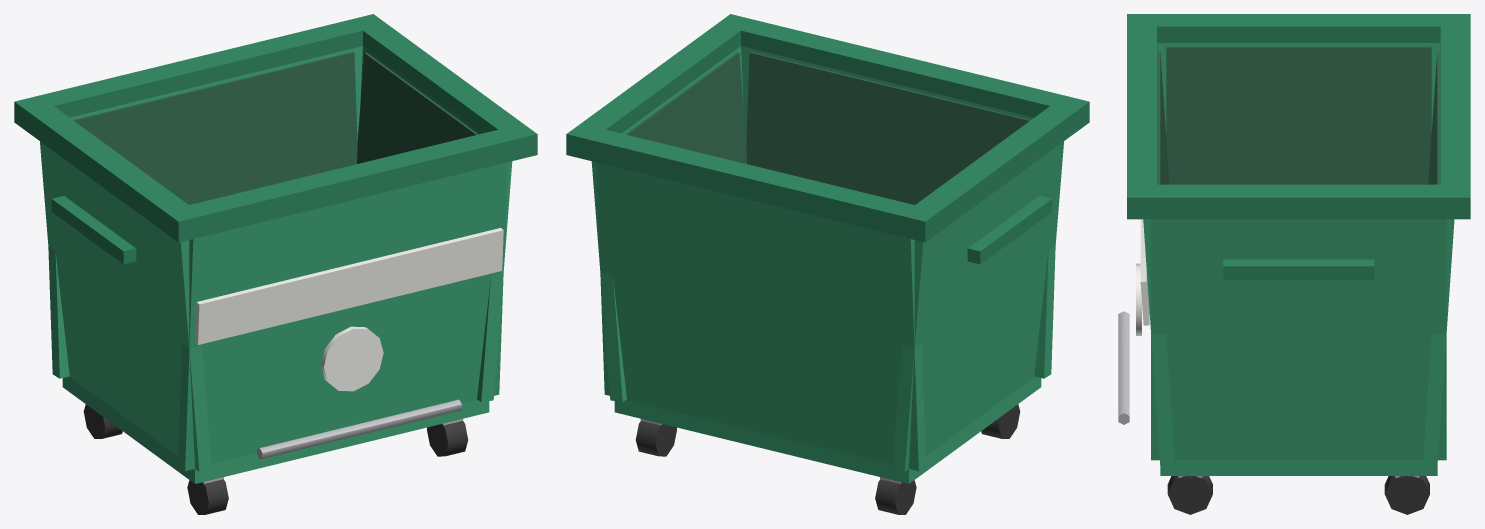
Rendered from municipal_bin_body.fbx.
3 views of the same model, side by side, from view 1: azimuth 30°, elevation 25°; view 2: azimuth 150°, elevation 25°; view 3: azimuth 270°, elevation 25° (orthographic). The views are drawn at different scales.
Visible parts, largest first — view 1: municipal_bin_body; view 2: municipal_bin_body; view 3: municipal_bin_body.
Boxes of the visible parts, <box> form: municipal_bin_body: <box>14,14,537,514</box>; municipal_bin_body: <box>566,14,1089,514</box>; municipal_bin_body: <box>1118,14,1470,514</box>.
Size of the model in its own units: 1.51 by 1.25 by 1.17.
